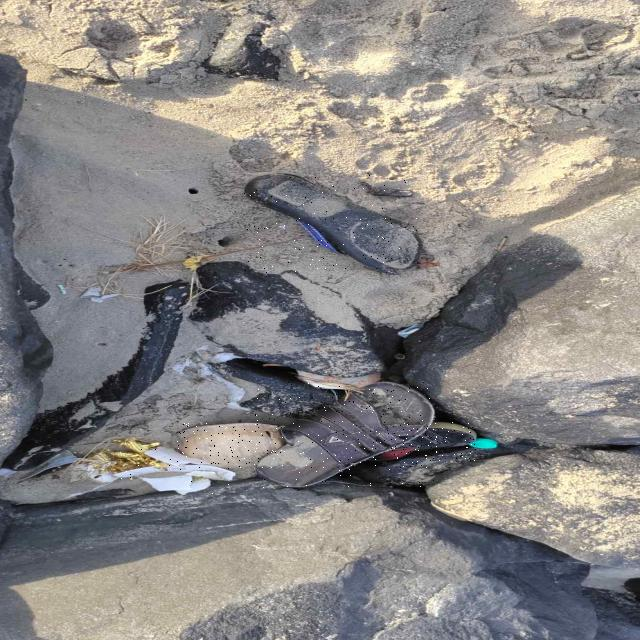biowaste: (177, 423, 283, 470)
other: (255, 382, 434, 487), (244, 174, 418, 273), (370, 422, 476, 461)
paper: (112, 447, 234, 493)
